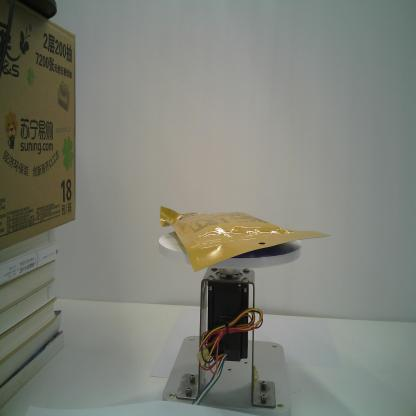Dried Fruit: (160, 206, 332, 273)
